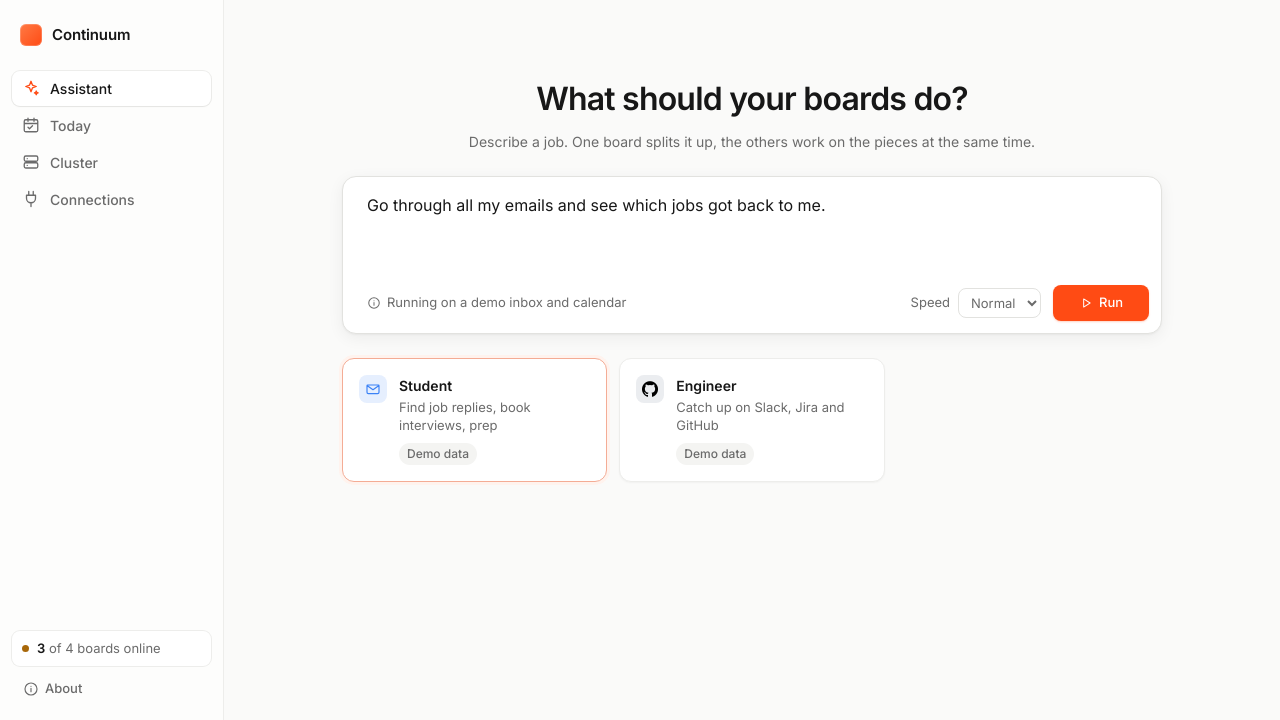
it: Assistant: report › leads with a headline and stat tiles, puts each section in a tab, and goes back to ask for another
Expected: the button "Engineer Catch up on Slack, Jira and GitHub Demo data" is shown, [619, 358, 885, 482]
Click the button "Run".
click(1101, 303)  # box [1053, 285, 1149, 321]
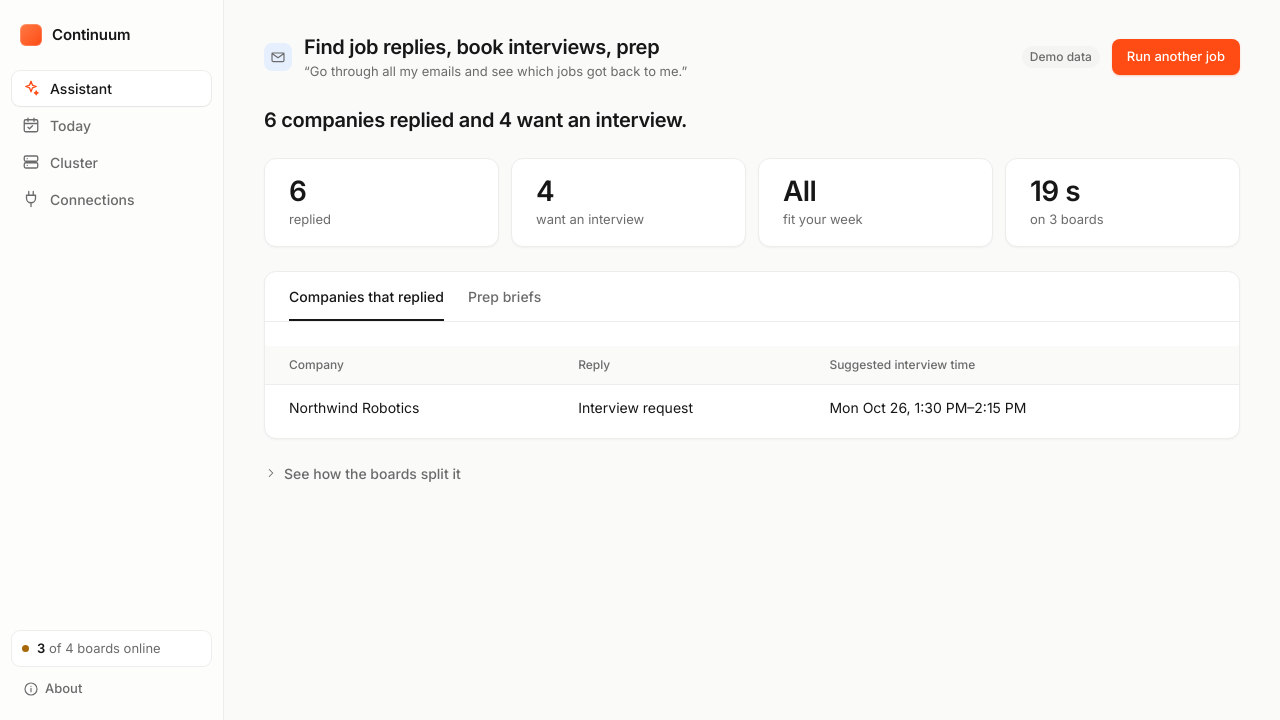
Expected: the text "6 companies replied and 4 want an interview." is shown, [264, 108, 687, 132]
Expected: the text "fit your week" is shown, [783, 211, 863, 227]
Expected: the cell "Mon Oct 26, 1:30 PM–2:15 PM" is shown, [817, 384, 1239, 430]
Click the tab "Prep briefs".
click(505, 296)  # box [468, 272, 541, 321]
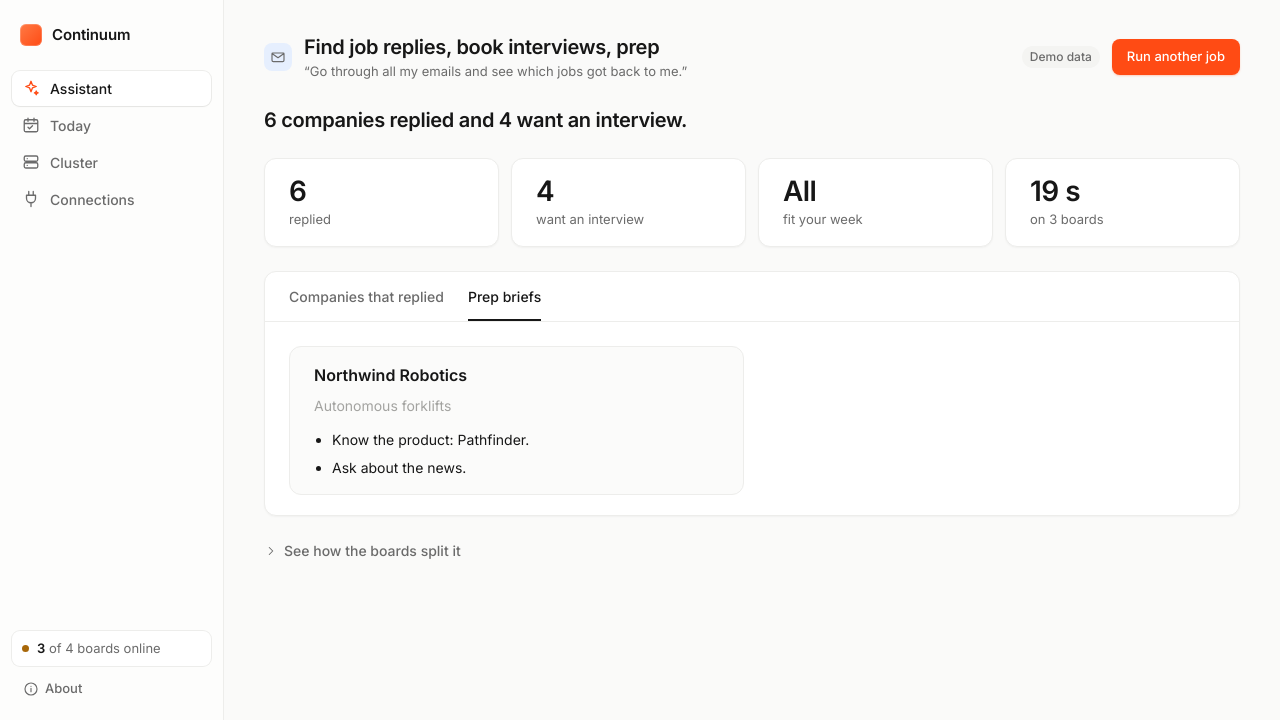
Expected: the list item "Know the product: Pathfinder." is shown, [332, 431, 529, 448]
Click the button "Run another job".
click(1176, 57)  # box [1112, 39, 1240, 75]
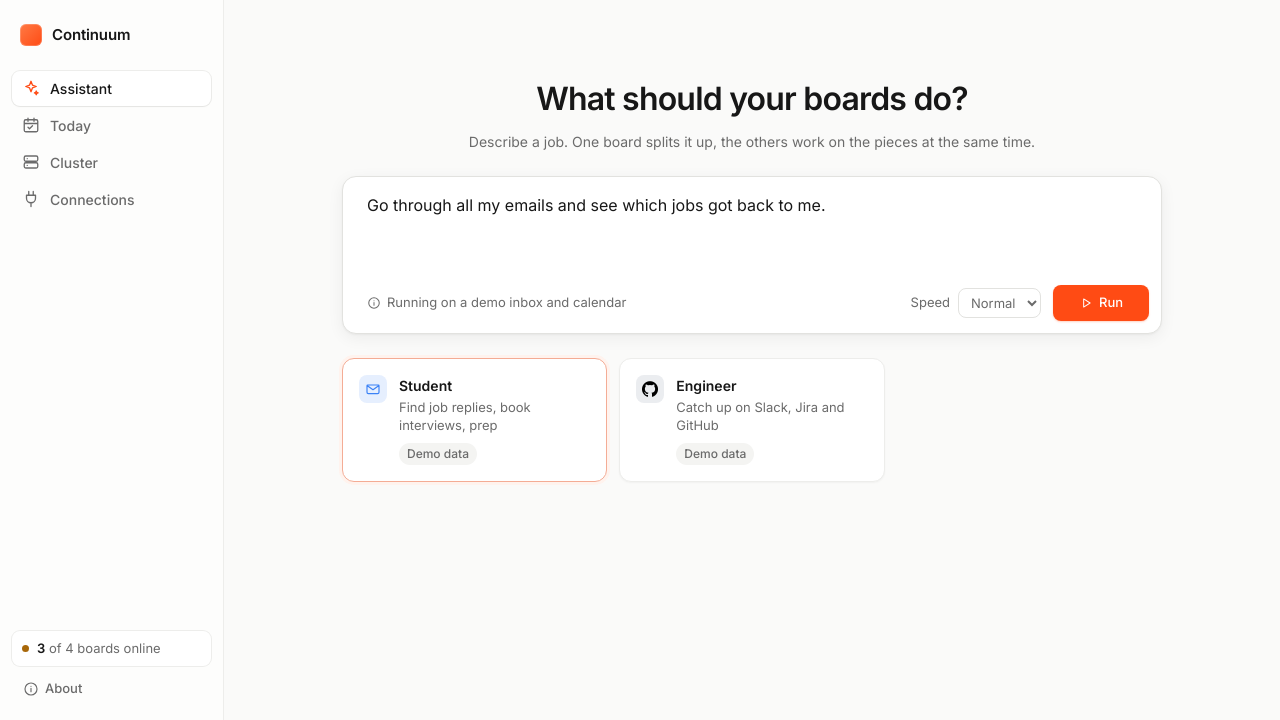
Expected: the heading "What should your boards do?" is shown, [536, 79, 968, 118]
